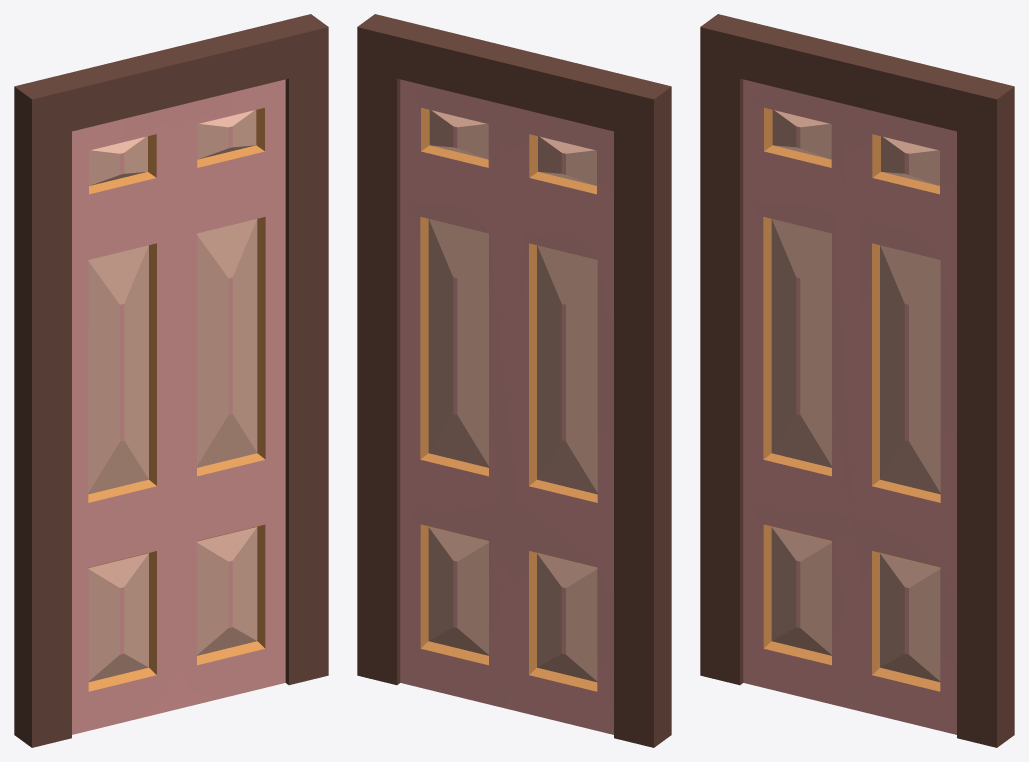
The model's file is Door.fbx.
The picture shows the model from 3 angles, left to right: view 1: azimuth 30°, elevation 25°; view 2: azimuth 150°, elevation 25°; view 3: azimuth 330°, elevation 25°; orthographic projection.
Parts seen in each view (by area): view 1: Door.003, DoorFrame.003; view 2: Door.003, DoorFrame.003; view 3: Door.003, DoorFrame.003.
Boxes of the visible parts, x1,y1,x2,y2 form: Door.003: [72, 79, 285, 734]; DoorFrame.003: [14, 14, 328, 747]; Door.003: [400, 79, 613, 734]; DoorFrame.003: [357, 14, 671, 747]; Door.003: [743, 79, 956, 734]; DoorFrame.003: [700, 14, 1014, 747].
Bounding box in the file's own units: 66.74 × 139 × 6.95.
